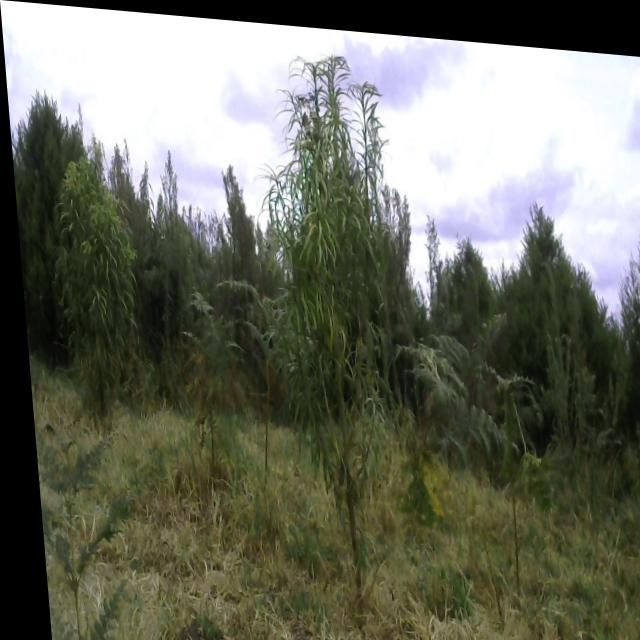Podocarpus falcatus: (257, 49, 404, 495), (51, 155, 138, 396)
cedrus: (498, 172, 617, 396), (6, 87, 91, 321), (432, 206, 502, 364), (608, 183, 640, 438)
